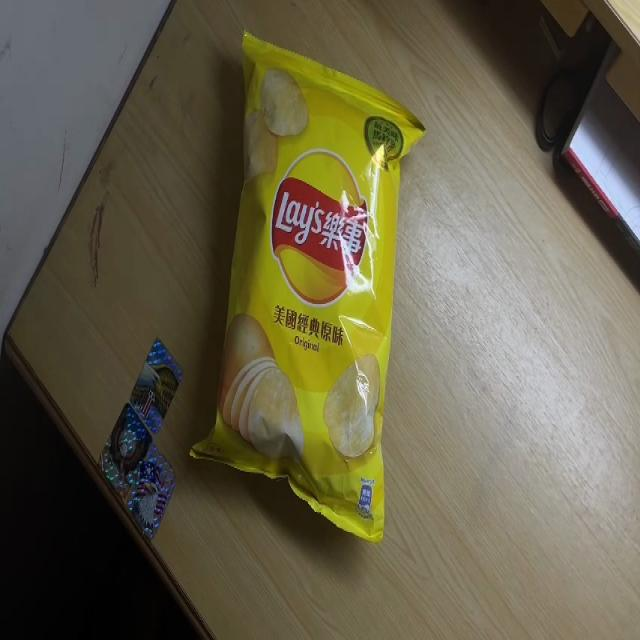Lay-s-original: (184, 30, 428, 542)
